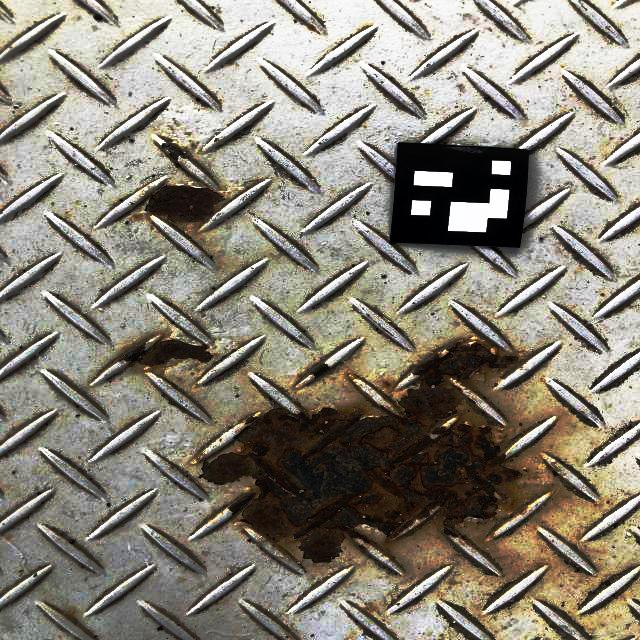Corrosion: (194, 338, 570, 565), (114, 333, 217, 378), (142, 181, 245, 226), (156, 135, 199, 170), (294, 359, 332, 387), (346, 372, 360, 380), (382, 380, 392, 388), (309, 24, 316, 31)
